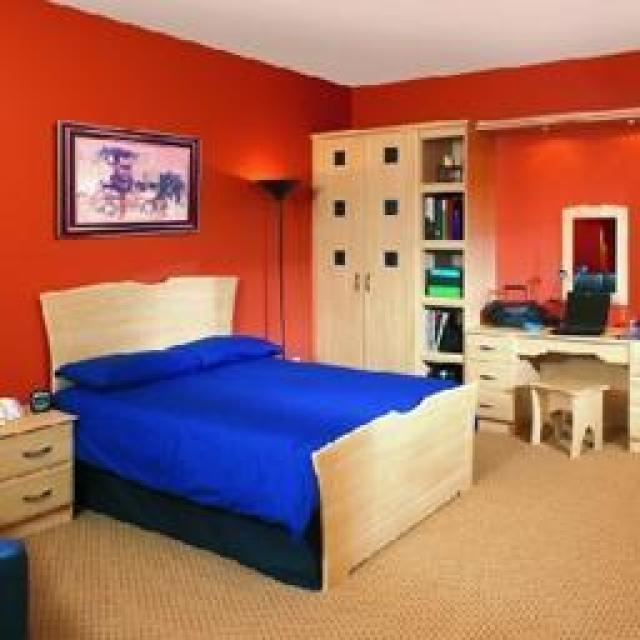bed: (38, 272, 478, 592)
door: (310, 128, 412, 372)
rugs: (0, 422, 638, 638)
table-lamp: (252, 175, 300, 360)
tables: (462, 323, 638, 455)
window: (560, 203, 628, 305)
